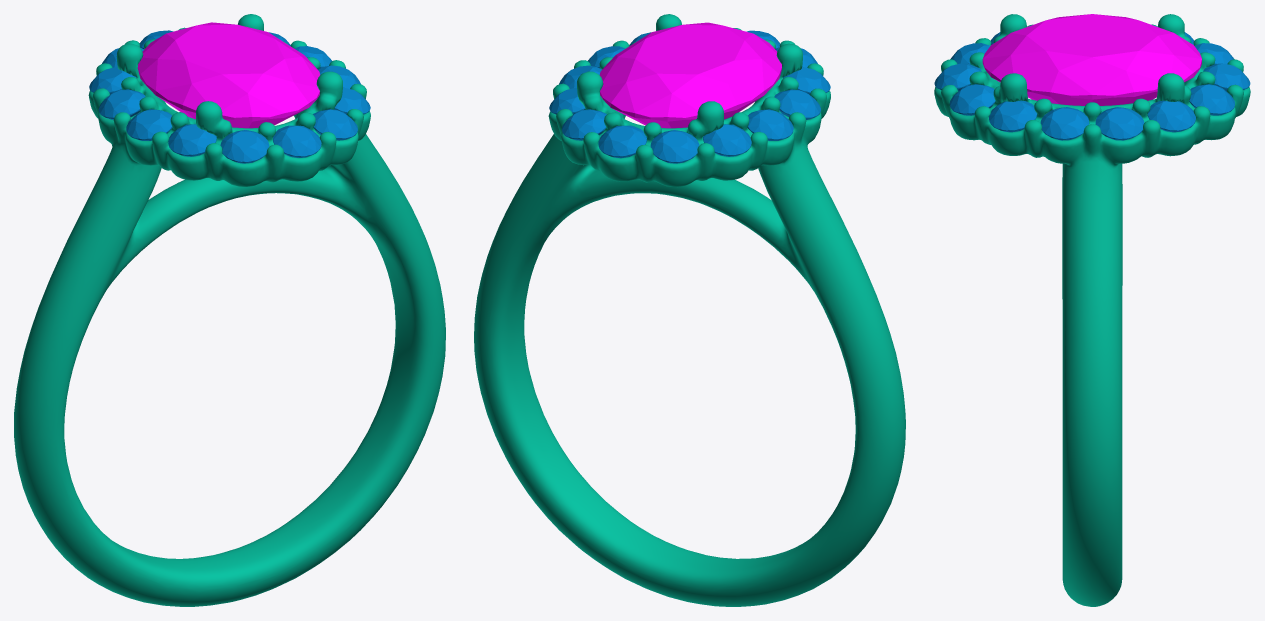
Rendered from BE1BD12R2_OV_200ct_RENDER.glb.
3 renders of one model, left to right at view 1: azimuth 30°, elevation 25°; view 2: azimuth 150°, elevation 25°; view 3: azimuth 270°, elevation 25°, orthographic.
Visible parts, largest first — view 1: Metal 01, CS_Diamond_Oval, Diamond_Round_Gem_HD.002, Diamond_Round_Gem_HD.001, Diamond_Round_Gem_HD.003, Diamond_Round_Gem_HD.004, Diamond_Round_Gem_HD.012, Diamond_Round_Gem_HD.005, Diamond_Round_Gem_HD.006, Diamond_Round_Gem_HD.011; view 2: Metal 01, CS_Diamond_Oval, Diamond_Round_Gem_HD.007, Diamond_Round_Gem_HD, Diamond_Round_Gem_HD.006, Diamond_Round_Gem_HD.005, Diamond_Round_Gem_HD.008, Diamond_Round_Gem_HD.004, Diamond_Round_Gem_HD.003, Diamond_Round_Gem_HD.009; view 3: Metal 01, CS_Diamond_Oval, Diamond_Round_Gem_HD.013, Diamond_Round_Gem_HD.010, Diamond_Round_Gem_HD.011, Diamond_Round_Gem_HD.009, Diamond_Round_Gem_HD.012, Diamond_Round_Gem_HD.008, Diamond_Round_Gem_HD, Diamond_Round_Gem_HD.001, Diamond_Round_Gem_HD.007, Diamond_Round_Gem_HD.002.
Boxes of the visible parts, <box> form: Metal 01: <box>14,14,445,606</box>; CS_Diamond_Oval: <box>137,22,319,128</box>; Diamond_Round_Gem_HD.002: <box>220,130,269,163</box>; Diamond_Round_Gem_HD.001: <box>273,125,321,157</box>; Diamond_Round_Gem_HD.003: <box>168,124,216,156</box>; Diamond_Round_Gem_HD.004: <box>126,109,172,140</box>; Diamond_Round_Gem_HD.012: <box>313,109,357,140</box>; Diamond_Round_Gem_HD.005: <box>98,89,145,119</box>; Diamond_Round_Gem_HD.006: <box>89,67,136,94</box>; Diamond_Round_Gem_HD.011: <box>334,87,370,114</box>; Metal 01: <box>474,14,905,606</box>; CS_Diamond_Oval: <box>599,22,781,128</box>; Diamond_Round_Gem_HD.007: <box>650,130,699,163</box>; Diamond_Round_Gem_HD: <box>598,125,646,158</box>; Diamond_Round_Gem_HD.006: <box>703,124,751,156</box>; Diamond_Round_Gem_HD.005: <box>747,109,793,140</box>; Diamond_Round_Gem_HD.008: <box>562,109,606,140</box>; Diamond_Round_Gem_HD.004: <box>774,89,820,119</box>; Diamond_Round_Gem_HD.003: <box>783,67,830,94</box>; Diamond_Round_Gem_HD.009: <box>549,88,585,114</box>; Metal 01: <box>934,14,1250,606</box>; CS_Diamond_Oval: <box>982,14,1201,105</box>; Diamond_Round_Gem_HD.013: <box>1095,107,1144,140</box>; Diamond_Round_Gem_HD.010: <box>1040,107,1089,140</box>; Diamond_Round_Gem_HD.011: <box>989,100,1037,132</box>; Diamond_Round_Gem_HD.009: <box>1147,100,1195,132</box>; Diamond_Round_Gem_HD.012: <box>949,84,995,115</box>; Diamond_Round_Gem_HD.008: <box>1189,84,1234,115</box>; Diamond_Round_Gem_HD: <box>1203,63,1250,91</box>; Diamond_Round_Gem_HD.001: <box>934,63,981,90</box>; Diamond_Round_Gem_HD.007: <box>1194,43,1234,64</box>; Diamond_Round_Gem_HD.002: <box>950,43,989,64</box>.
Size of the model in its own units: 20.01 by 24.8 by 12.98.
